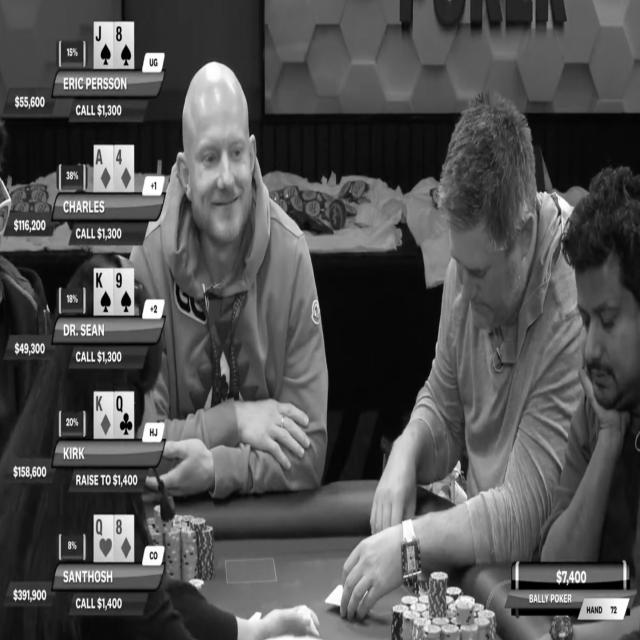4D: (114, 143, 134, 190)
8D: (116, 515, 135, 562)
8S: (115, 22, 134, 68)
9S: (113, 270, 135, 317)
AD: (93, 142, 115, 190)
JS: (94, 22, 113, 68)
KD: (94, 391, 113, 438)
KS: (94, 269, 113, 316)
QC: (115, 390, 134, 439)
QH: (93, 515, 115, 560)
